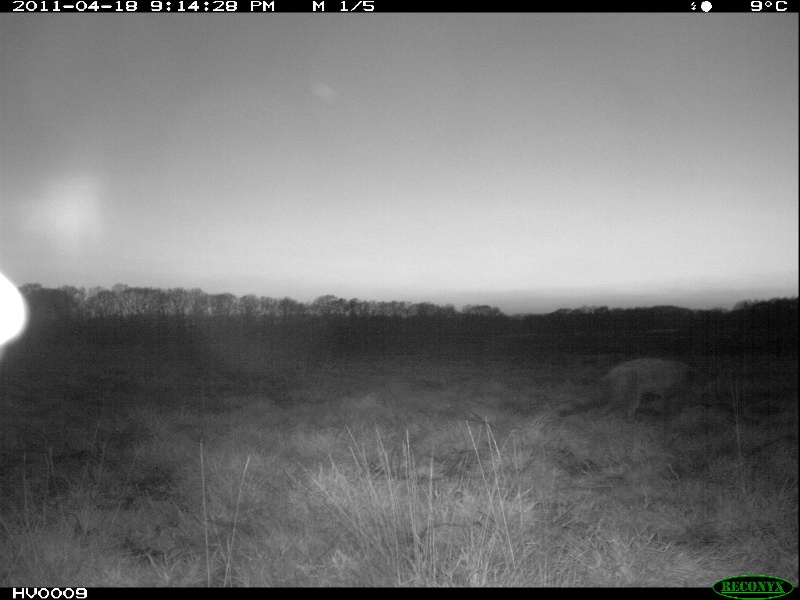fox: (562, 355, 726, 426)
